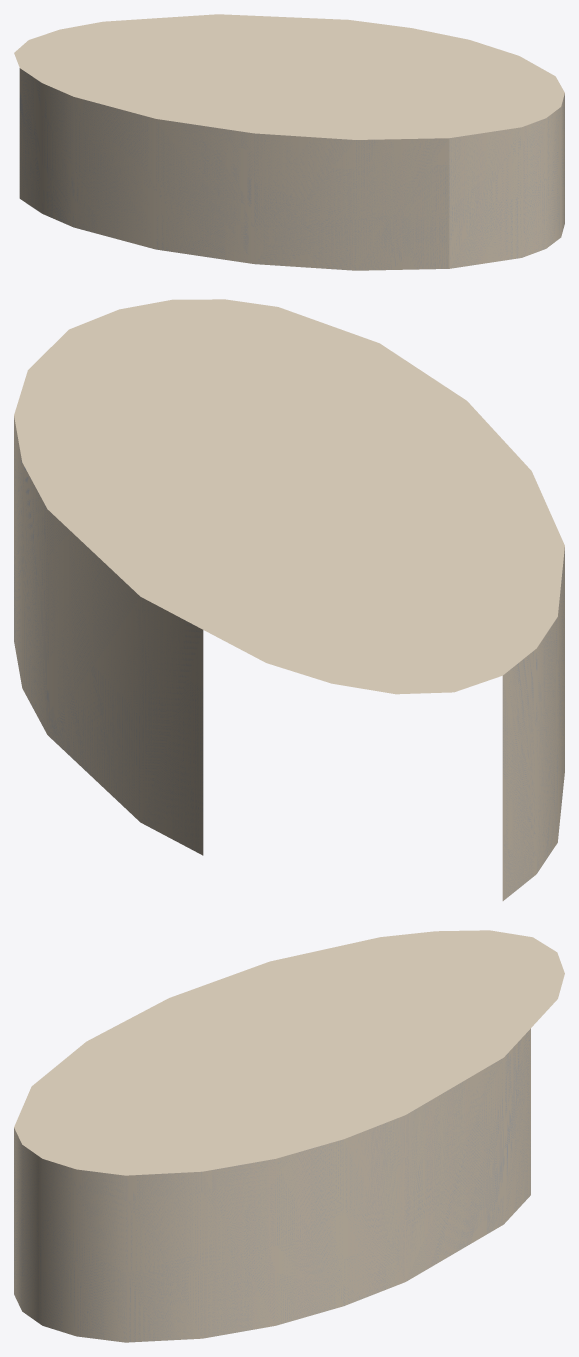
Rendered from original-60.obj.
3 renders of one model, top to bottom at view 1: azimuth 30°, elevation 25°; view 2: azimuth 150°, elevation 25°; view 3: azimuth 270°, elevation 25°, orthographic. The views are drawn at different scales.
Visible parts, largest first — view 1: #ID120; view 2: #ID120; view 3: #ID120.
Boxes of the visible parts, x1,y1,x2,y2 form: #ID120: (14,14,564,270); #ID120: (14,299,564,900); #ID120: (14,930,564,1342).
Bounding box in the file's own units: 0.00555 × 0.00176 × 0.00526.
